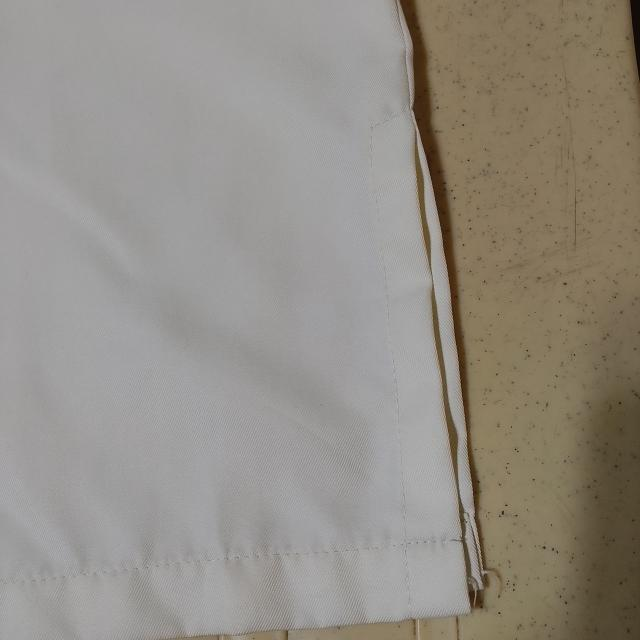education_male_uniform: (0, 1, 474, 632)
